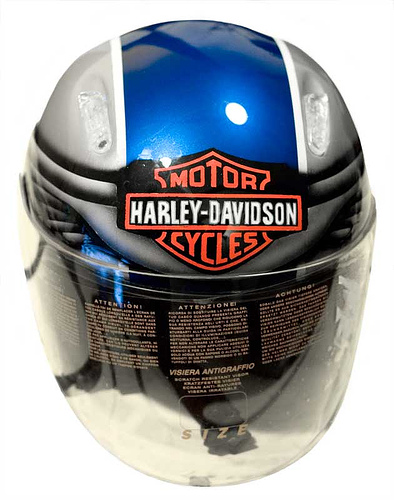helmet: (17, 24, 383, 470)
